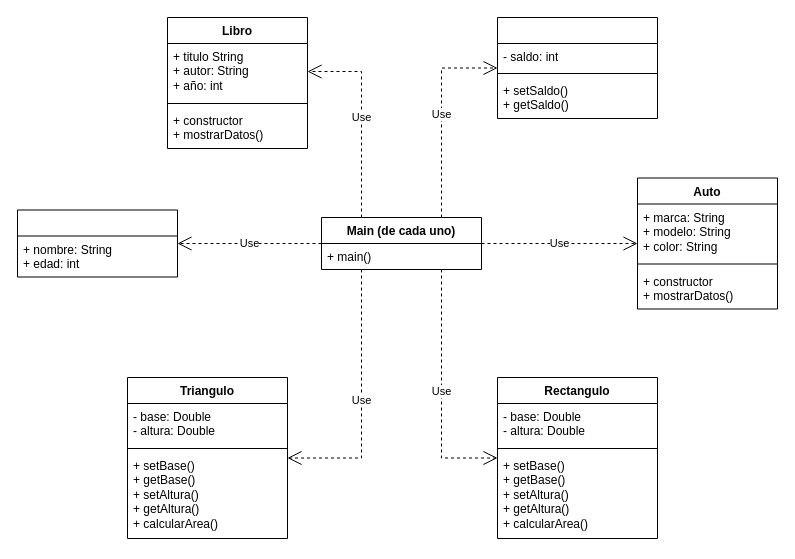
Some shapes in this 795 by 559 pixel diagram are drawn without their labels. The shapes that lost their labels are listed below. From the top down, each one's box as (x1, y1, x2, y2) in pixels, then its label:
(496, 16, 658, 118): CuentaBancaria
(16, 209, 178, 277): Persona
